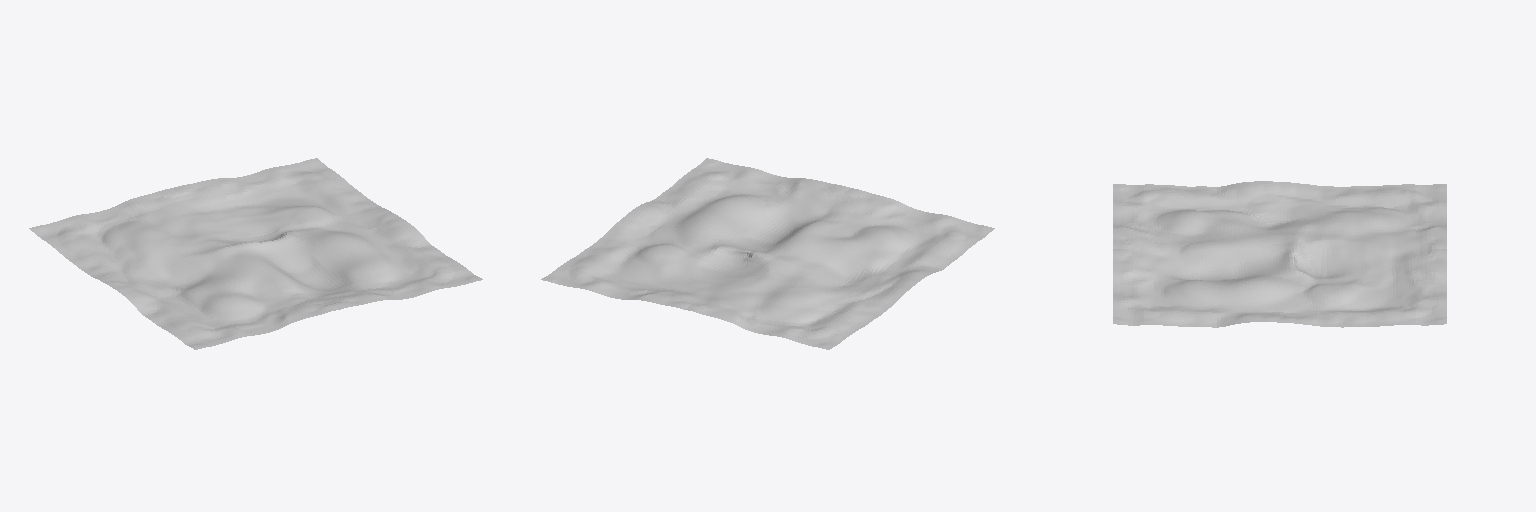
Rendered from ground_model5.obj.
The picture shows the model from 3 angles: view 1: azimuth 30°, elevation 25°; view 2: azimuth 150°, elevation 25°; view 3: azimuth 270°, elevation 25°; orthographic projection.
Visible parts, largest first — view 1: pPlane21; view 2: pPlane21; view 3: pPlane21.
Boxes of the visible parts, x1,y1,x2,y2 form: pPlane21: [29, 158, 482, 349]; pPlane21: [541, 158, 994, 349]; pPlane21: [1113, 181, 1446, 327].
Bounding box in the file's own units: 248 × 13.88 × 248.